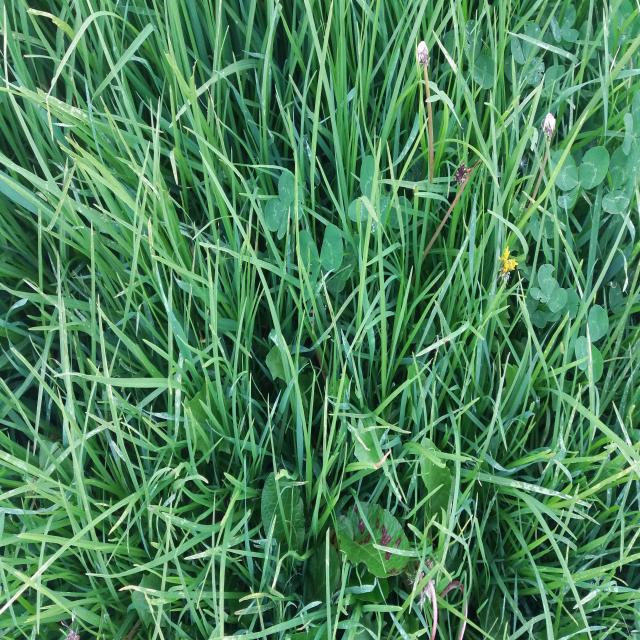Four Leaf Clover: (265, 169, 304, 240)
